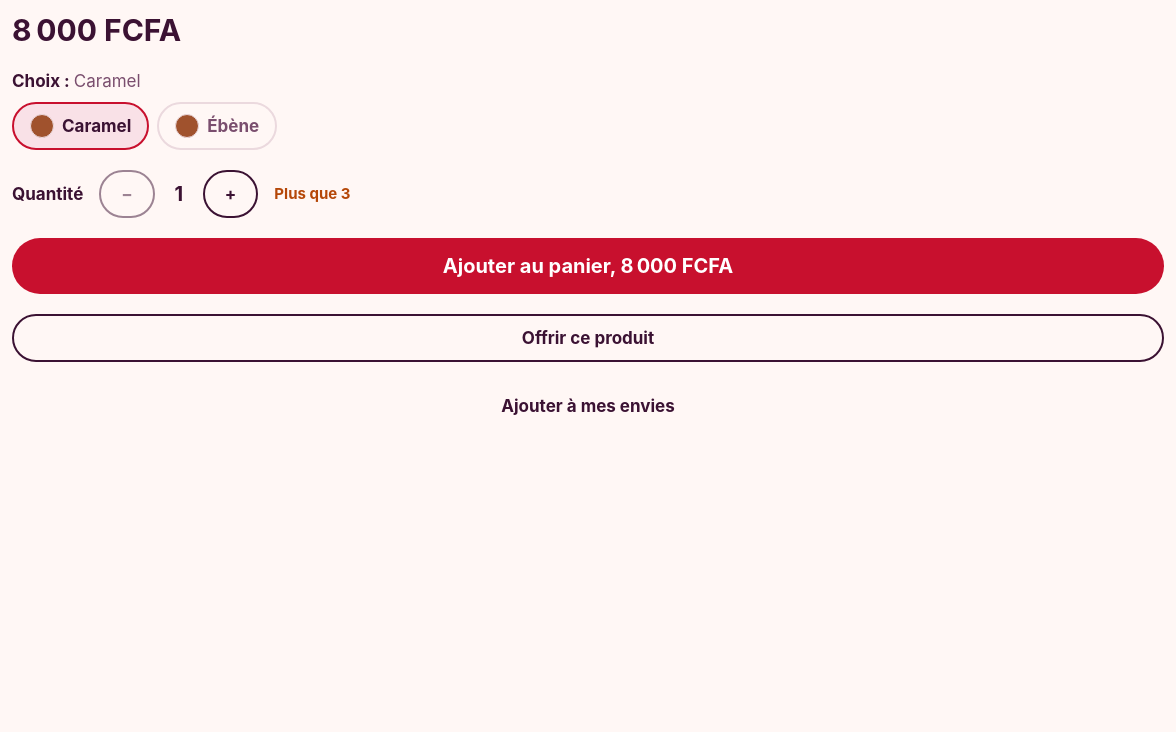
Scenario: ProductBuy › offers an alert when the shade is sold out
The width and height of the screenshot is (1176, 732).
Click the button "Ébène".
click(217, 126)  # box [157,102,277,150]
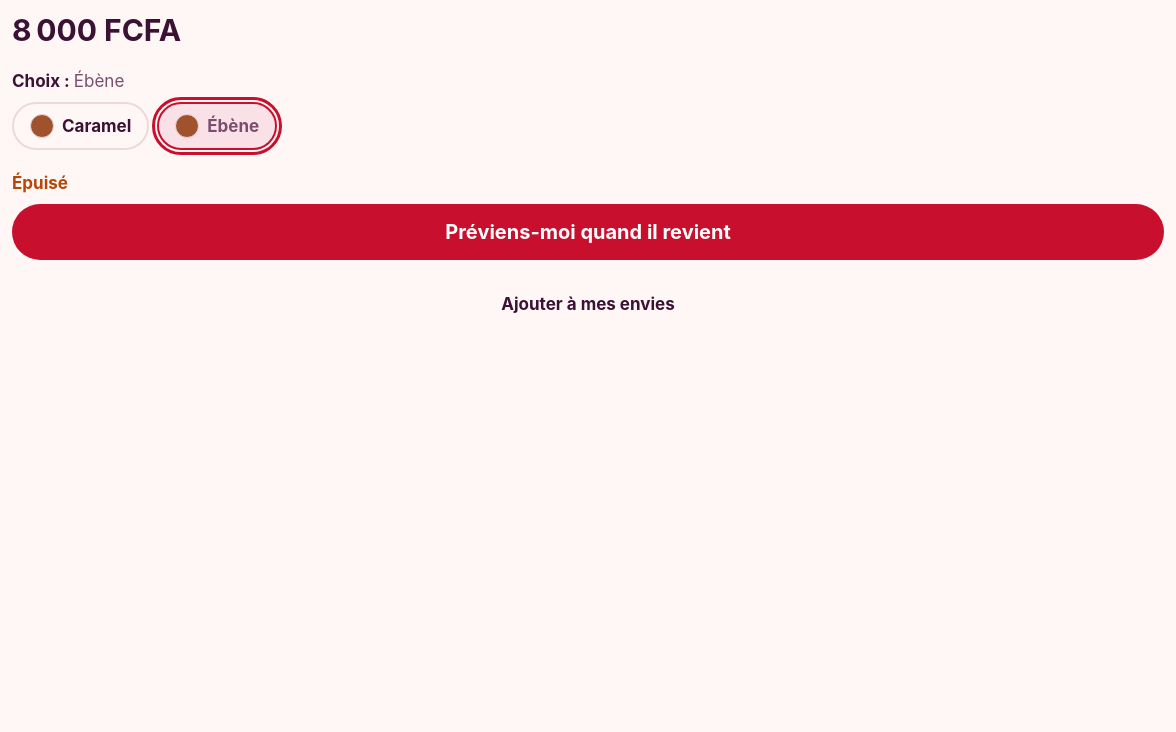
Click the button "Préviens-moi quand il revient".
click(588, 232)  # box [12,204,1164,260]
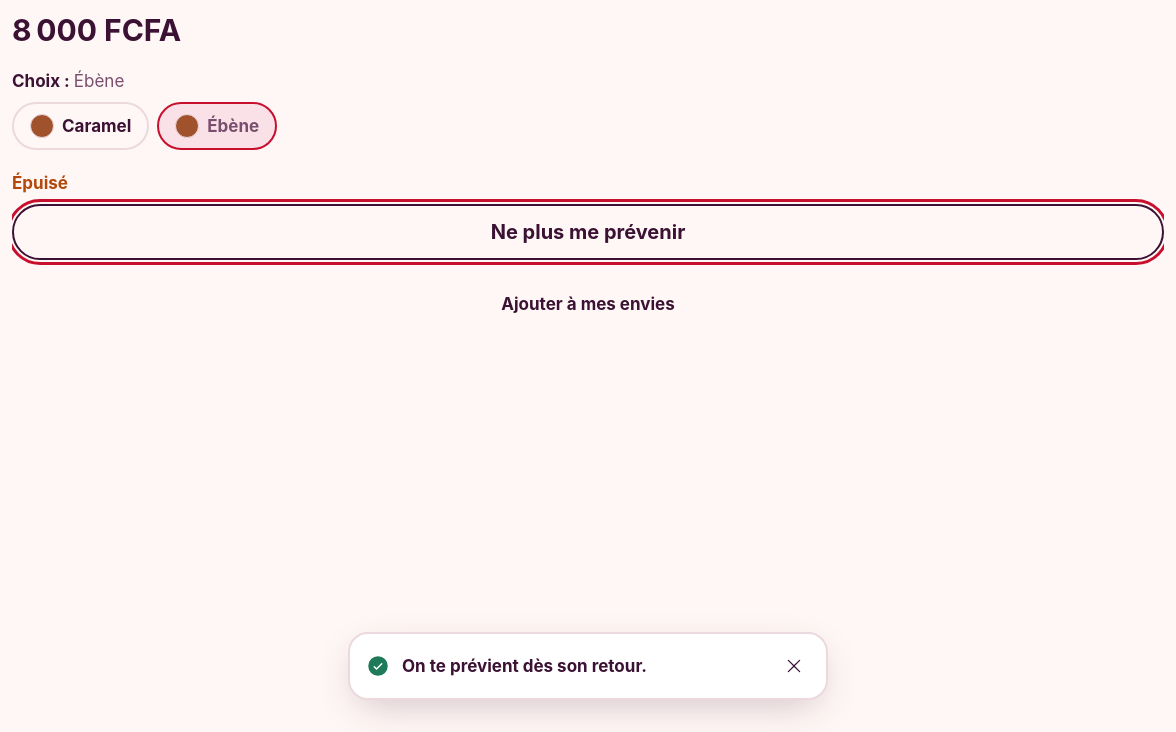
Check: the button "Ne plus me prévenir" is shown, box [12,204,1164,260]
